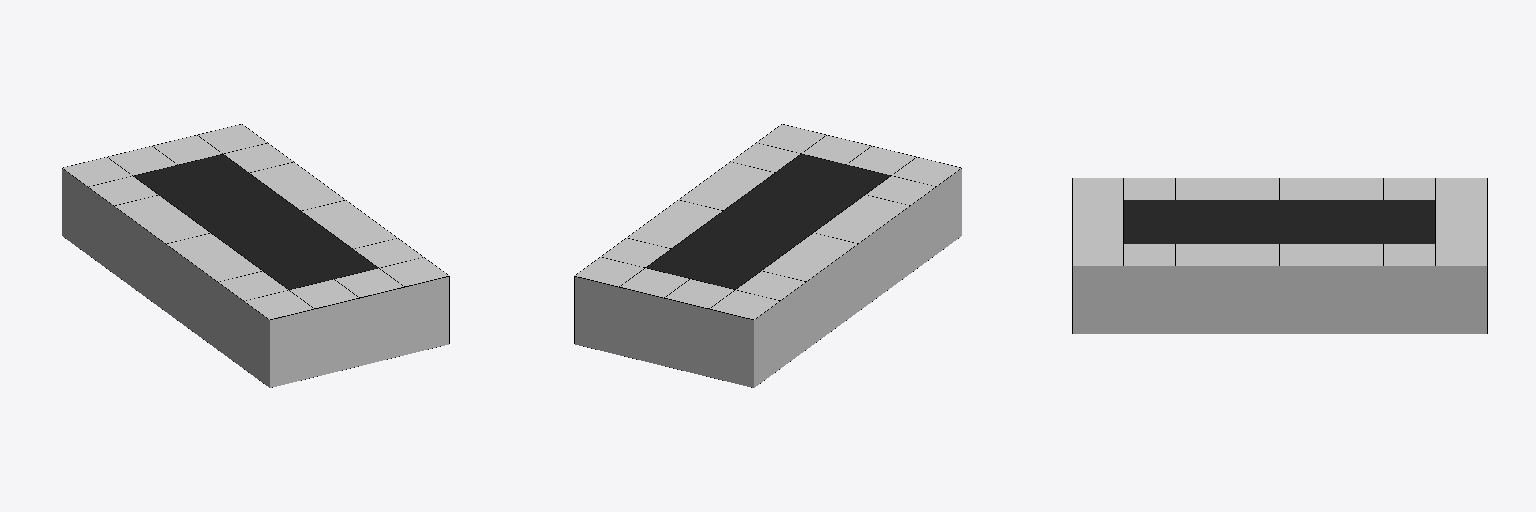
The picture shows the model from 3 angles: view 1: azimuth 30°, elevation 25°; view 2: azimuth 150°, elevation 25°; view 3: azimuth 270°, elevation 25°; orthographic projection.
Parts seen in each view (by area): view 1: lever_base_Cube.004; view 2: lever_base_Cube.004; view 3: lever_base_Cube.004.
Part boxes in pixels (x1,y1,x2,y2): lever_base_Cube.004: (62, 124, 449, 387); lever_base_Cube.004: (574, 124, 961, 387); lever_base_Cube.004: (1072, 178, 1487, 333).
Size of the model in its own units: 1 by 0.3622 by 2.
1 materials, 1 textured.